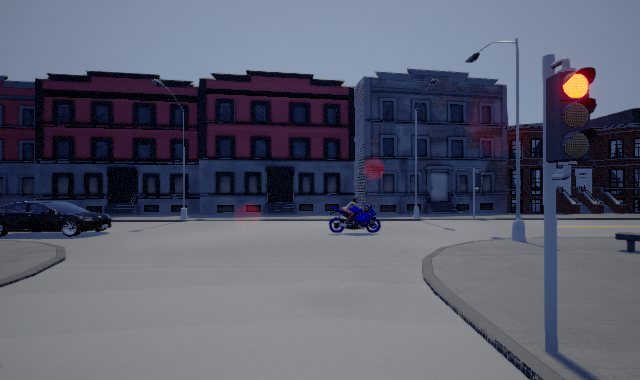motobike: (329, 197, 381, 233)
traffic_light: (546, 57, 597, 180)
vehicle: (1, 201, 112, 237)
